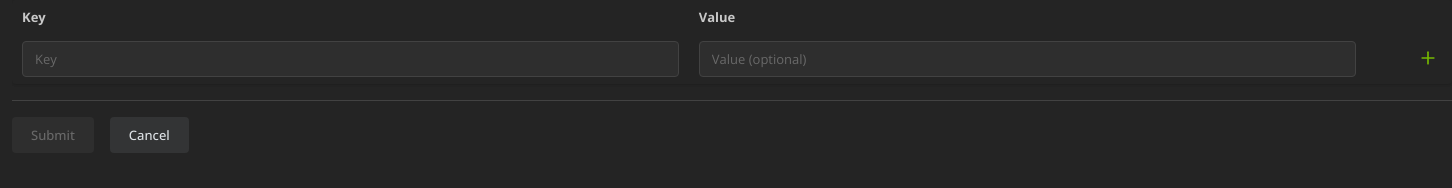
Scenario: TagFormTable › does not add a tag when the value is invalid
Type "validkey" into the field with placeholder "Key" at (350, 59), box [22,41,679,77]
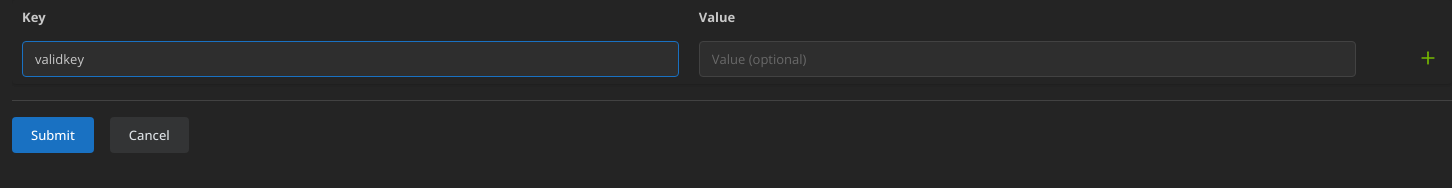
Type "invalid value!" into the field with placeholder "Value (optional)" at (1027, 59), box [699,41,1356,77]
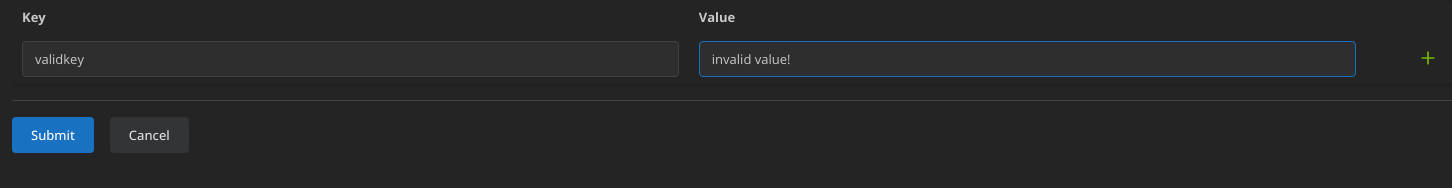
Click the button titled "Add tag" at (1428, 55), box [1414,41,1442,69]
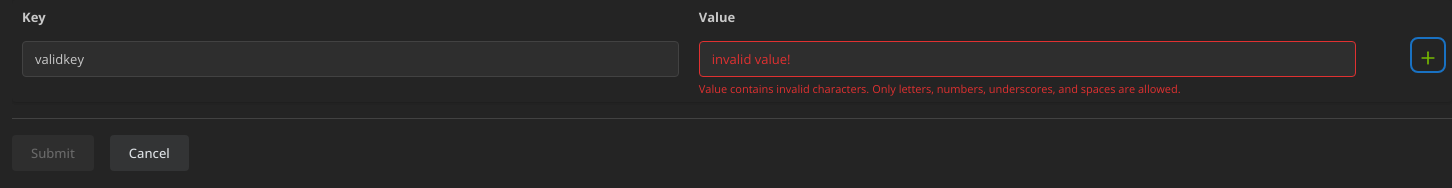
Expected: the number of rows is 2, [12,0,1451,34]; [12,34,1451,102]
Now the text "Value contains invalid characters. Only letters, numbers, underscores, and spaces are allowed." is shown, box [699,81,1181,96]
